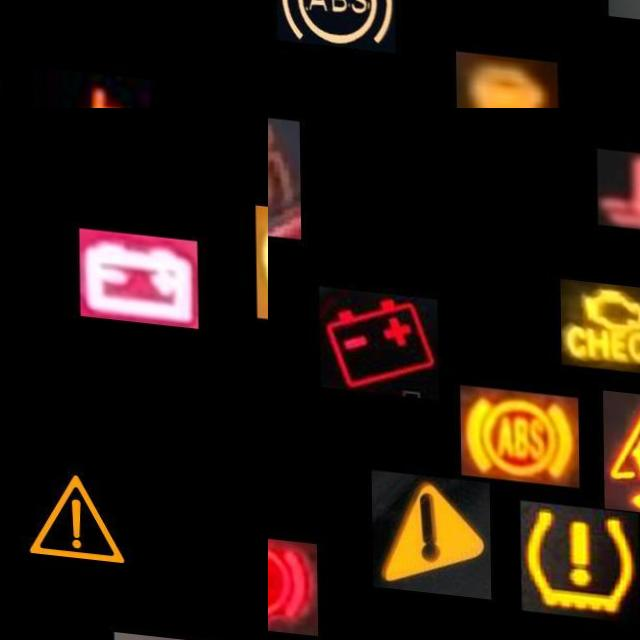Central Warning lamp: (16, 451, 135, 580), (370, 465, 490, 592)
Engine cooling system: (34, 58, 153, 108), (596, 138, 640, 224)
